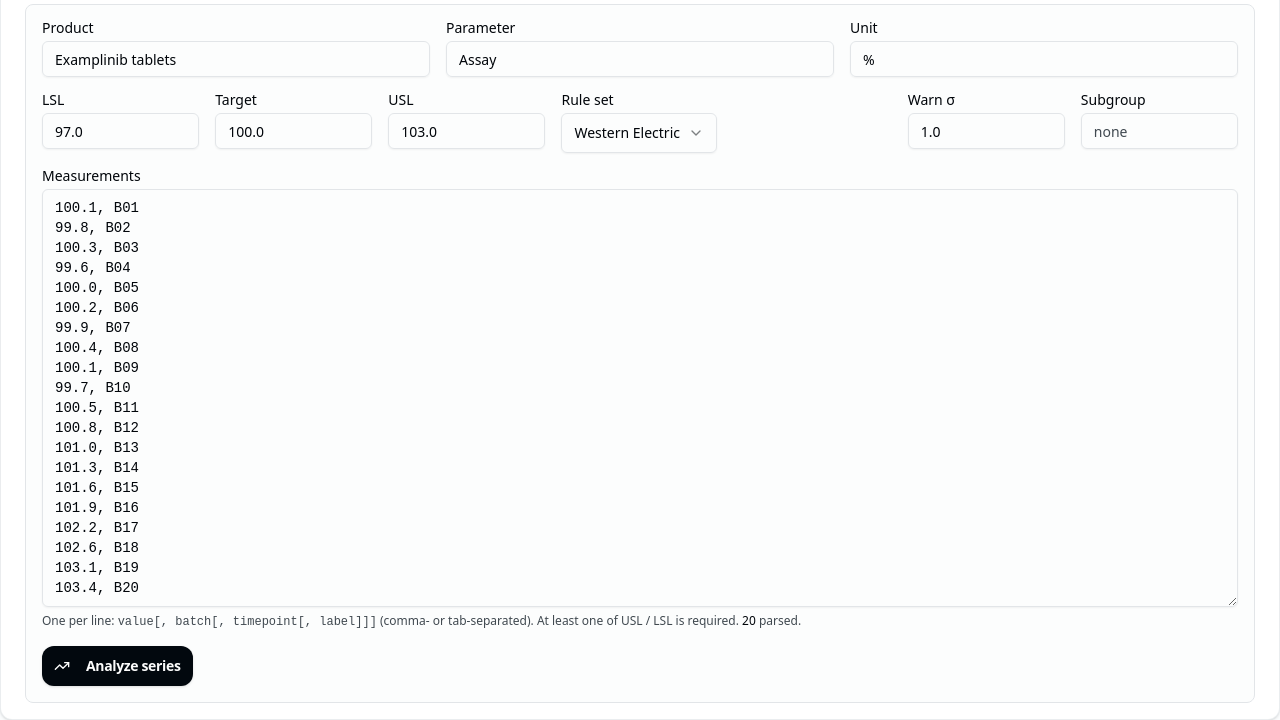
Test: SPCProcessCapabilityPanel › warns on a drift signal with no spec breach yet (first_oos null)
(page scrolled)
Click the button "Analyze series": coordinates (117, 666) [42, 646, 192, 686]
(page scrolled)
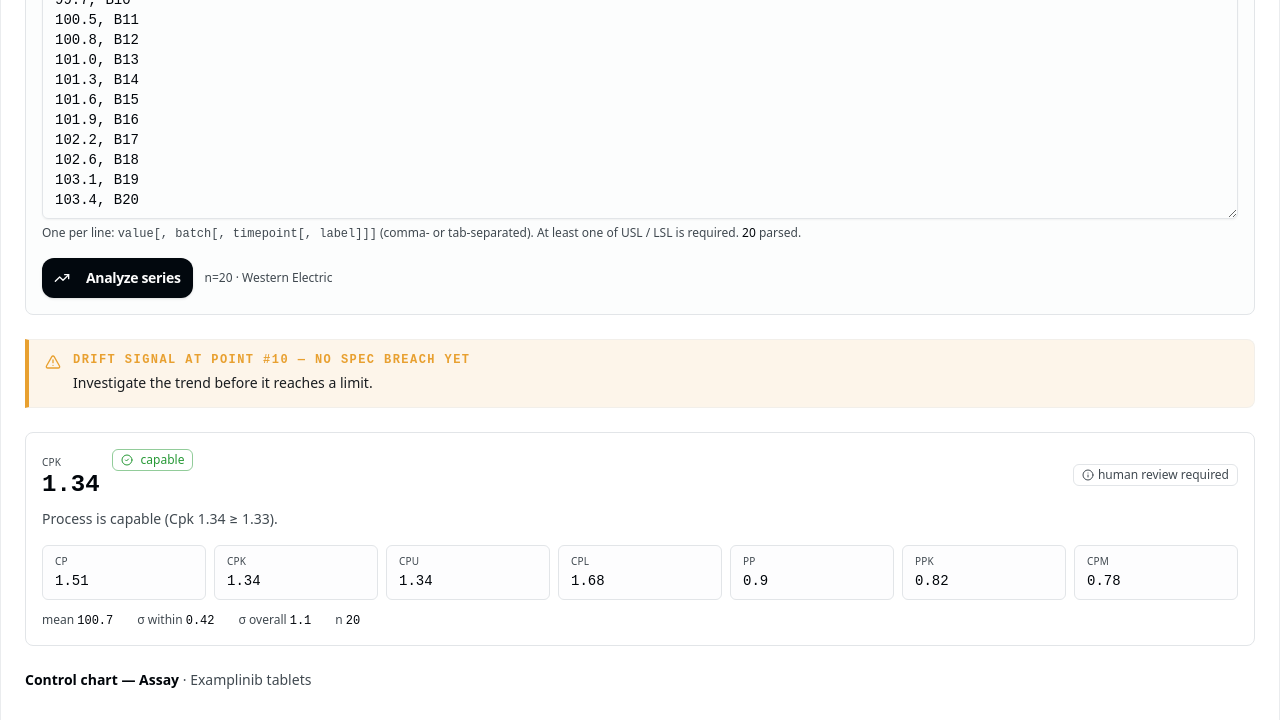
Now the text "Drift signal at point #10 — no spec breach yet" is shown, box [73, 352, 470, 368]
